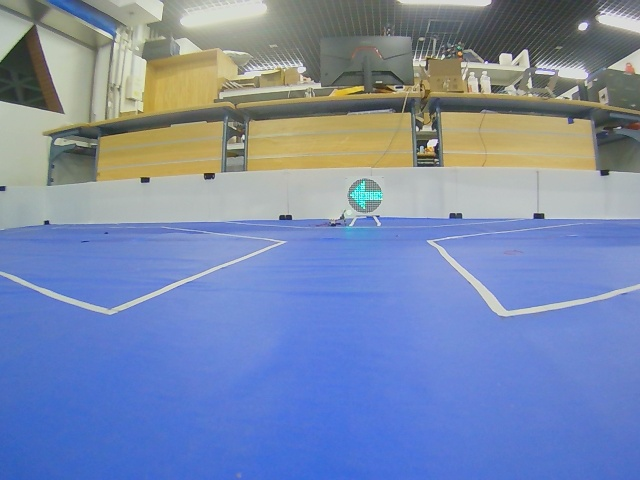left_green: (348, 179, 383, 213)
